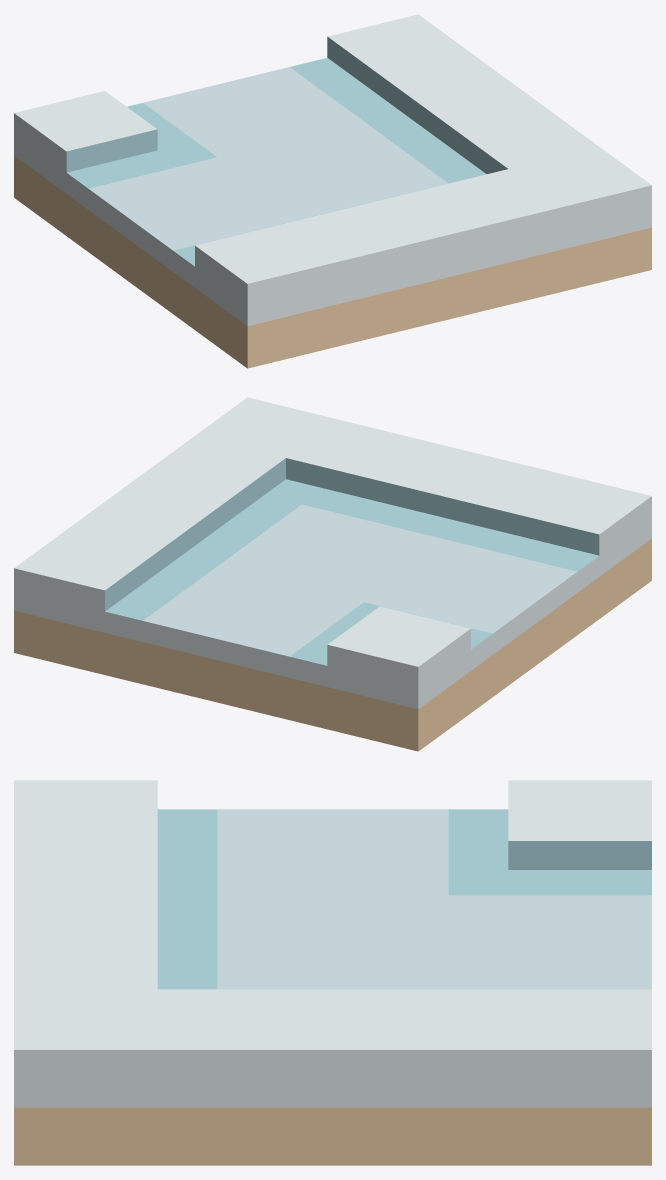
File: snow_tile_cornerSquare.glb
3 views of the same model, one above another, from view 1: azimuth 30°, elevation 25°; view 2: azimuth 150°, elevation 25°; view 3: azimuth 270°, elevation 25° (orthographic). The views are drawn at different scales.
Parts seen in each view (by area): view 1: snow_tile_cornerSquare; view 2: snow_tile_cornerSquare; view 3: snow_tile_cornerSquare.
Boxes of the visible parts, x1,y1,x2,y2 form: snow_tile_cornerSquare: [14, 14, 651, 368]; snow_tile_cornerSquare: [14, 397, 651, 751]; snow_tile_cornerSquare: [14, 780, 651, 1165].
Bounding box in the file's own units: 1 × 0.2 × 1.
